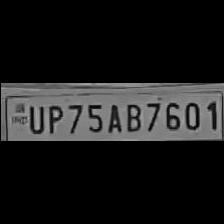0: (181, 99, 201, 130)
1: (202, 99, 220, 131)
5: (82, 100, 104, 134)
6: (161, 100, 181, 132)
7: (64, 100, 82, 134), (142, 98, 160, 132)
A: (104, 100, 122, 134)
B: (121, 100, 141, 134)
P: (42, 102, 62, 136)
U: (24, 102, 44, 134)
